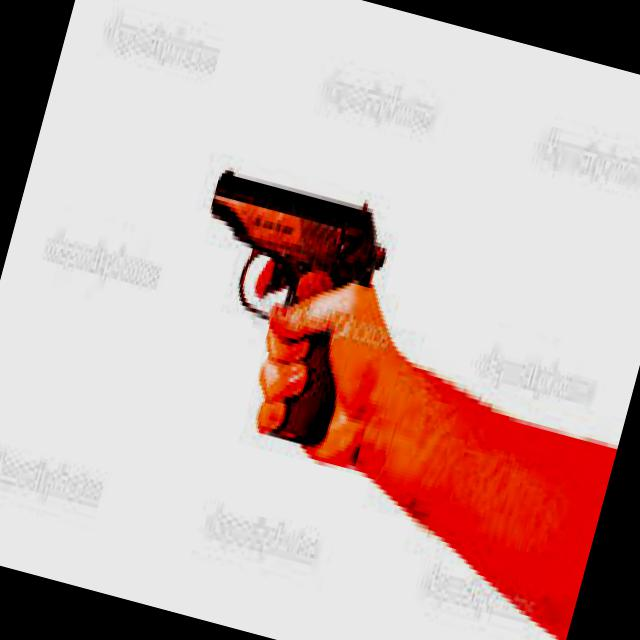handgun: (151, 155, 398, 452)
